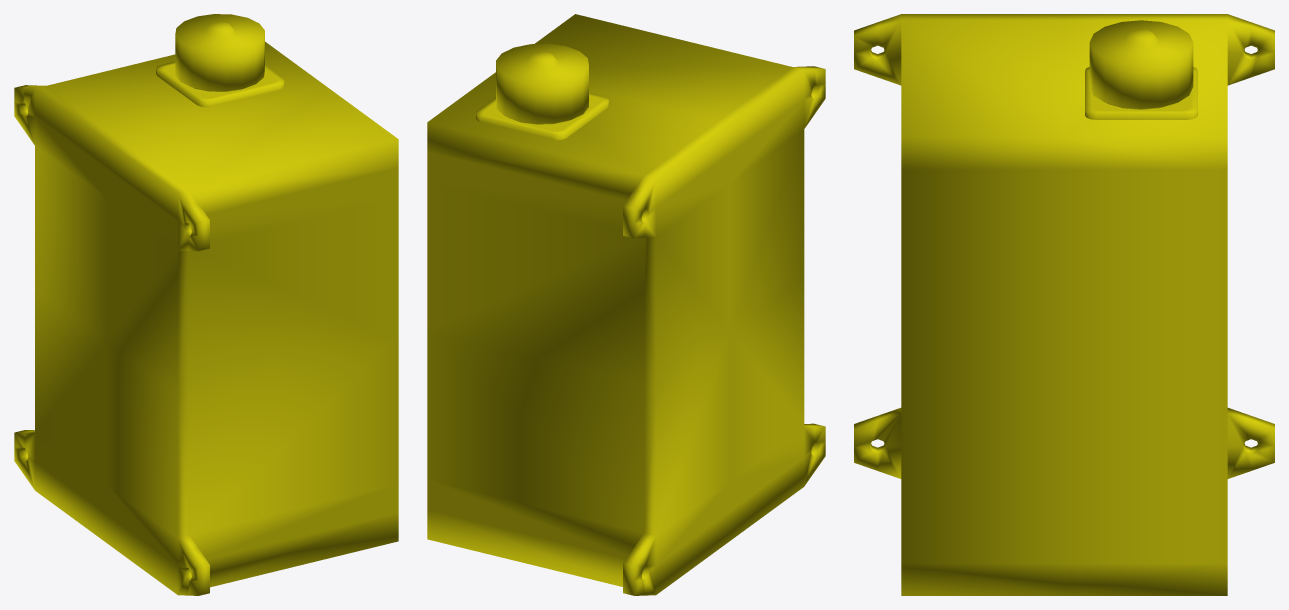
File: Cargo_MIRT.fbx
3 views of the same model, side by side, from view 1: azimuth 30°, elevation 25°; view 2: azimuth 150°, elevation 25°; view 3: azimuth 270°, elevation 25° (orthographic). The views are drawn at different scales.
Parts seen in each view (by area): view 1: Cargo_MIRT; view 2: Cargo_MIRT; view 3: Cargo_MIRT.
Boxes of the visible parts, bbox=[...] form: Cargo_MIRT: bbox=[14, 14, 398, 595]; Cargo_MIRT: bbox=[427, 14, 825, 595]; Cargo_MIRT: bbox=[854, 14, 1274, 595].
Size of the model in its own units: 80.45 by 159 by 116.
